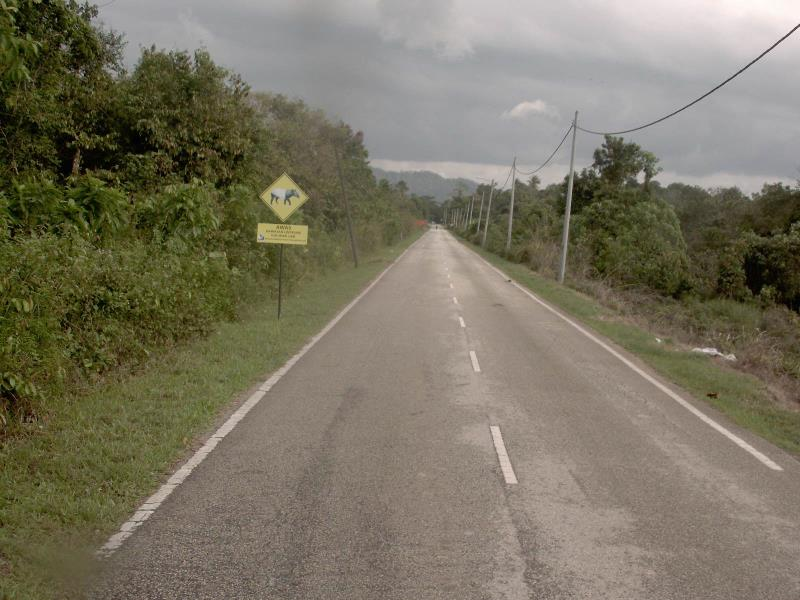traffic_sign: (250, 163, 317, 225)
